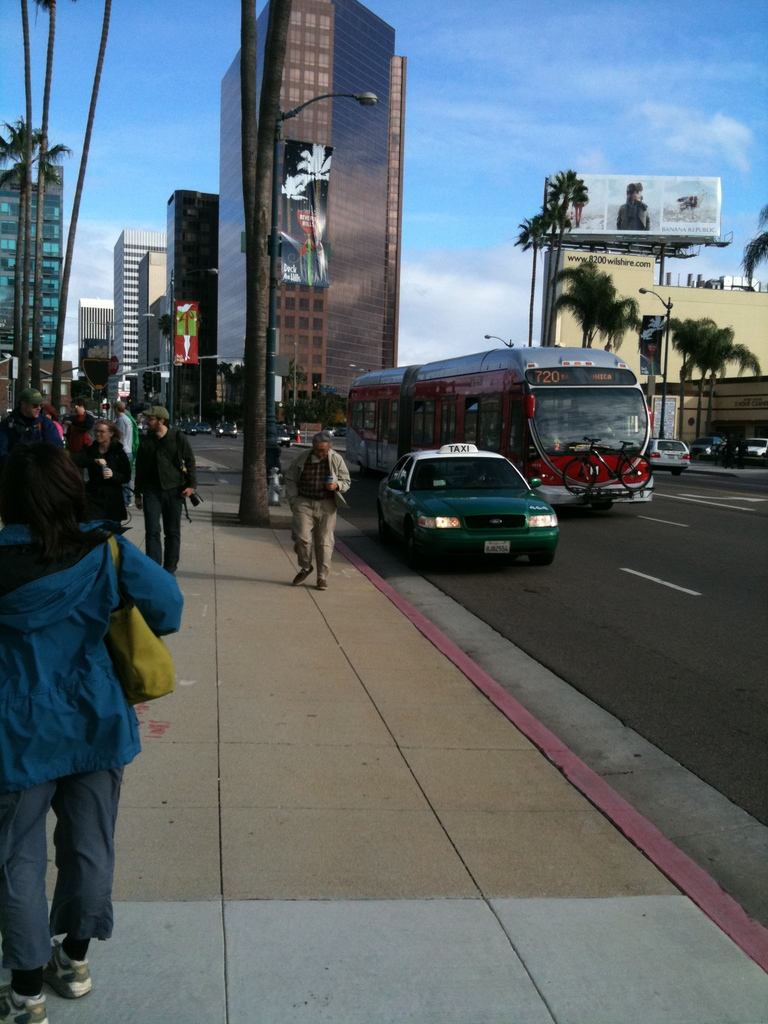Car: (367, 439, 565, 563), (645, 435, 693, 471), (740, 432, 767, 462), (691, 434, 723, 455), (217, 420, 236, 437), (278, 423, 289, 448), (196, 421, 210, 433), (180, 421, 192, 433), (321, 426, 336, 435)
